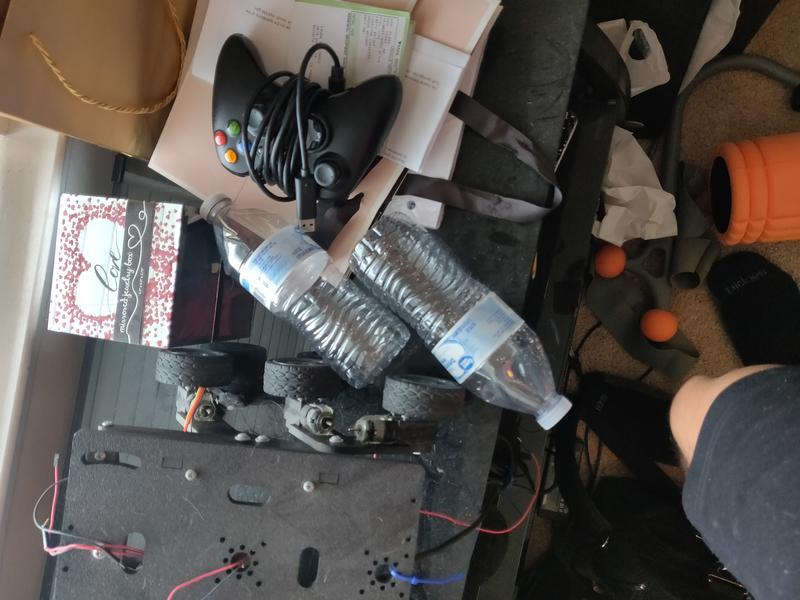bottle: (348, 213, 571, 431), (199, 194, 411, 389)
